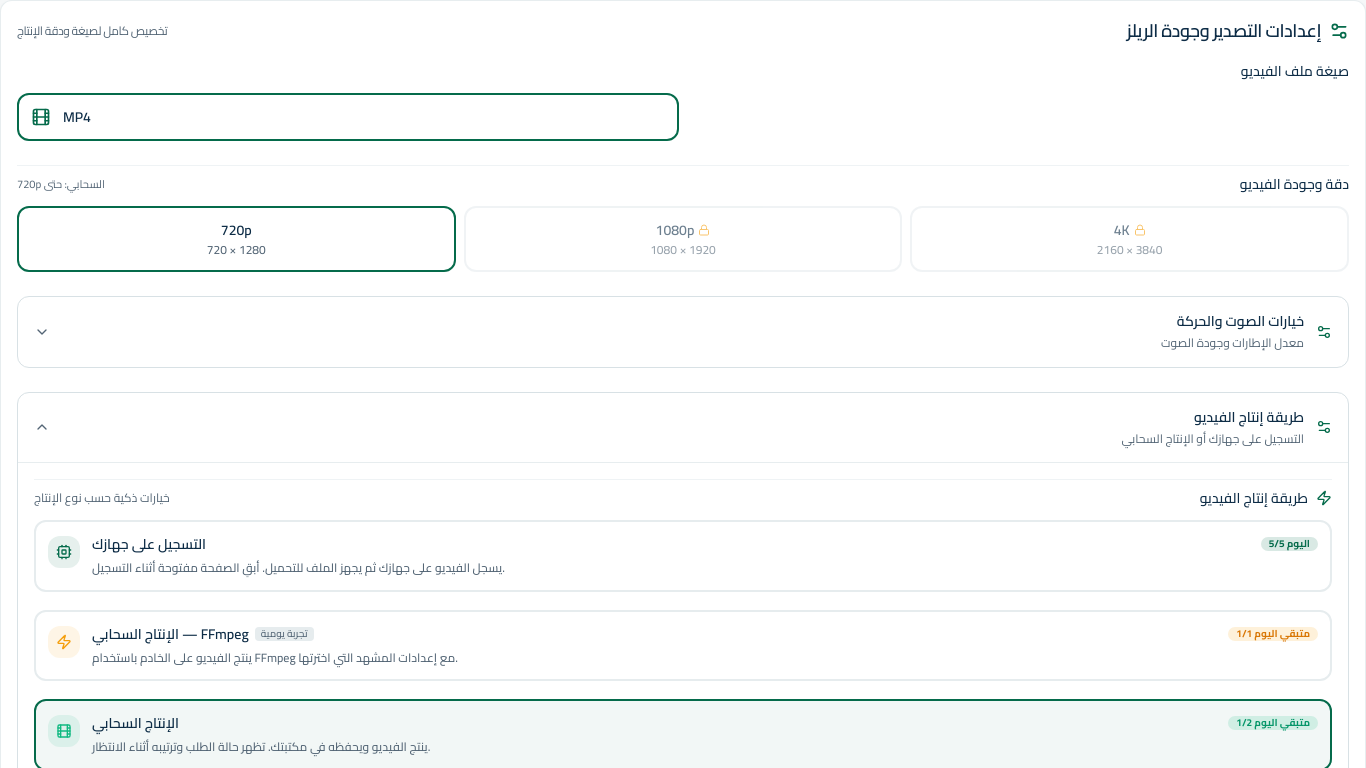
Test case: export settings progressive disclosure › retains every engine and recording strategy after closing and reopening
Earlier steps of the test are not shown.
Expected: the radio button with id "engine-skia-canvas" is checked, x1=33 y1=698 x2=49 y2=714
Click the text "طريقة إنتاج الفيديو". click: x=1249, y=416
box: x1=1194 y1=404 x2=1304 y2=430
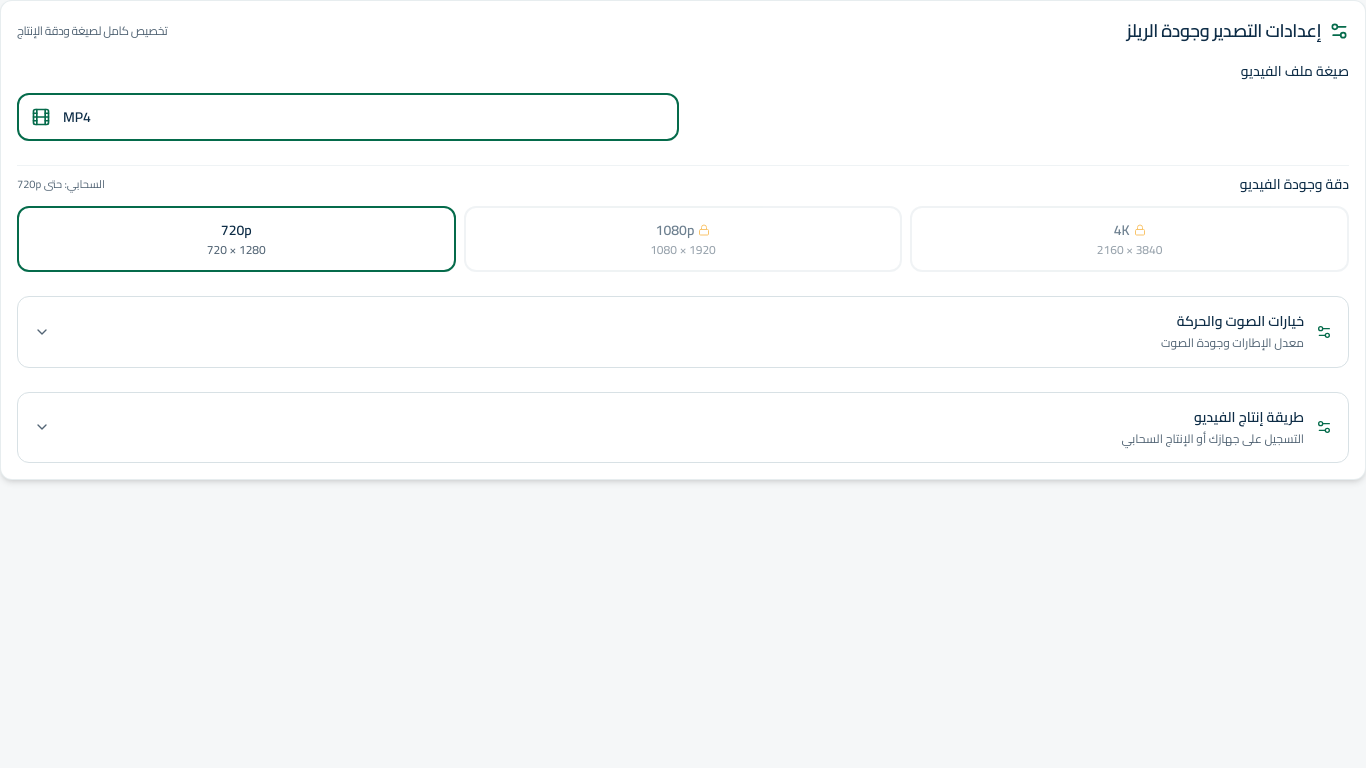
Click the text "طريقة إنتاج الفيديو". click: x=1249, y=416
box: x1=1194 y1=404 x2=1304 y2=430
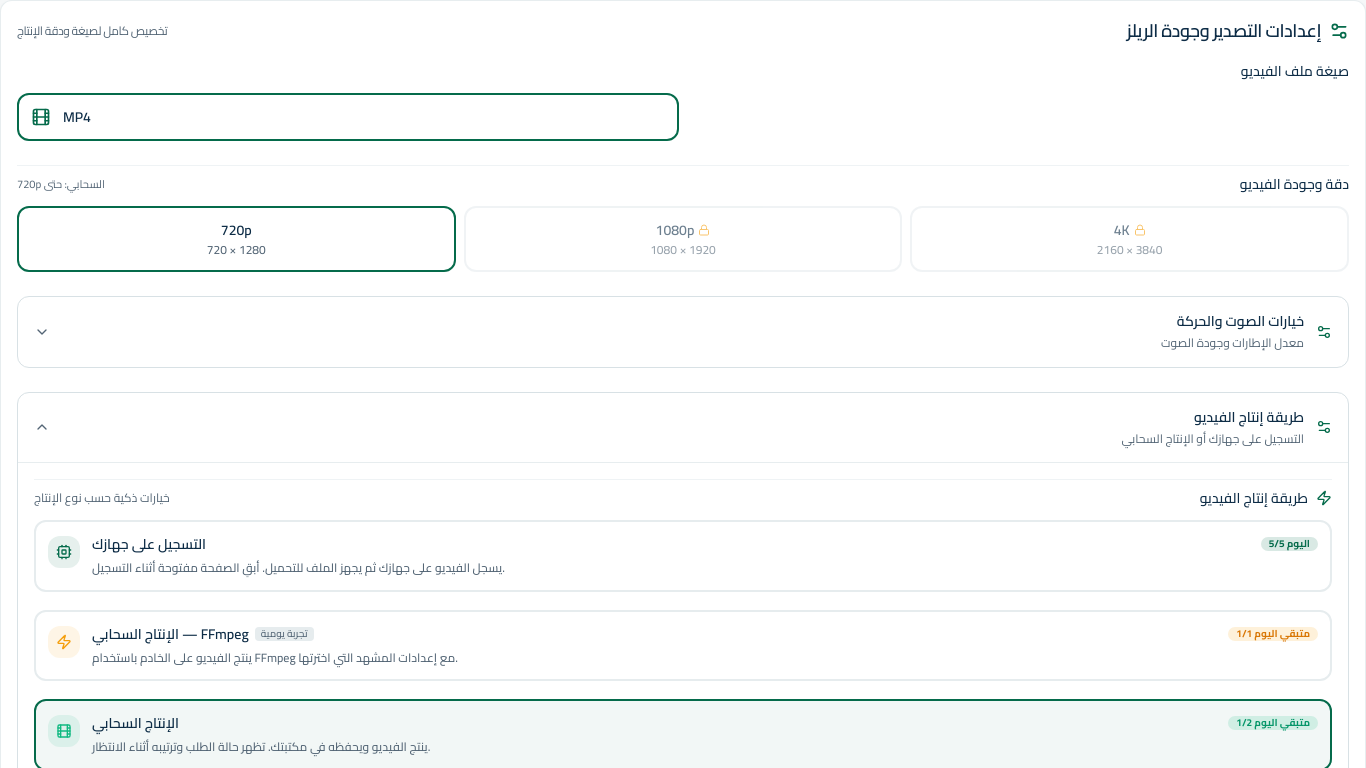
Expected: the radio button with id "engine-skia-canvas" is checked, x1=33 y1=698 x2=49 y2=714
Click the radio button with id "engine-browser". click: x=41, y=527
box: x1=33 y1=519 x2=49 y2=535
(page scrolled)
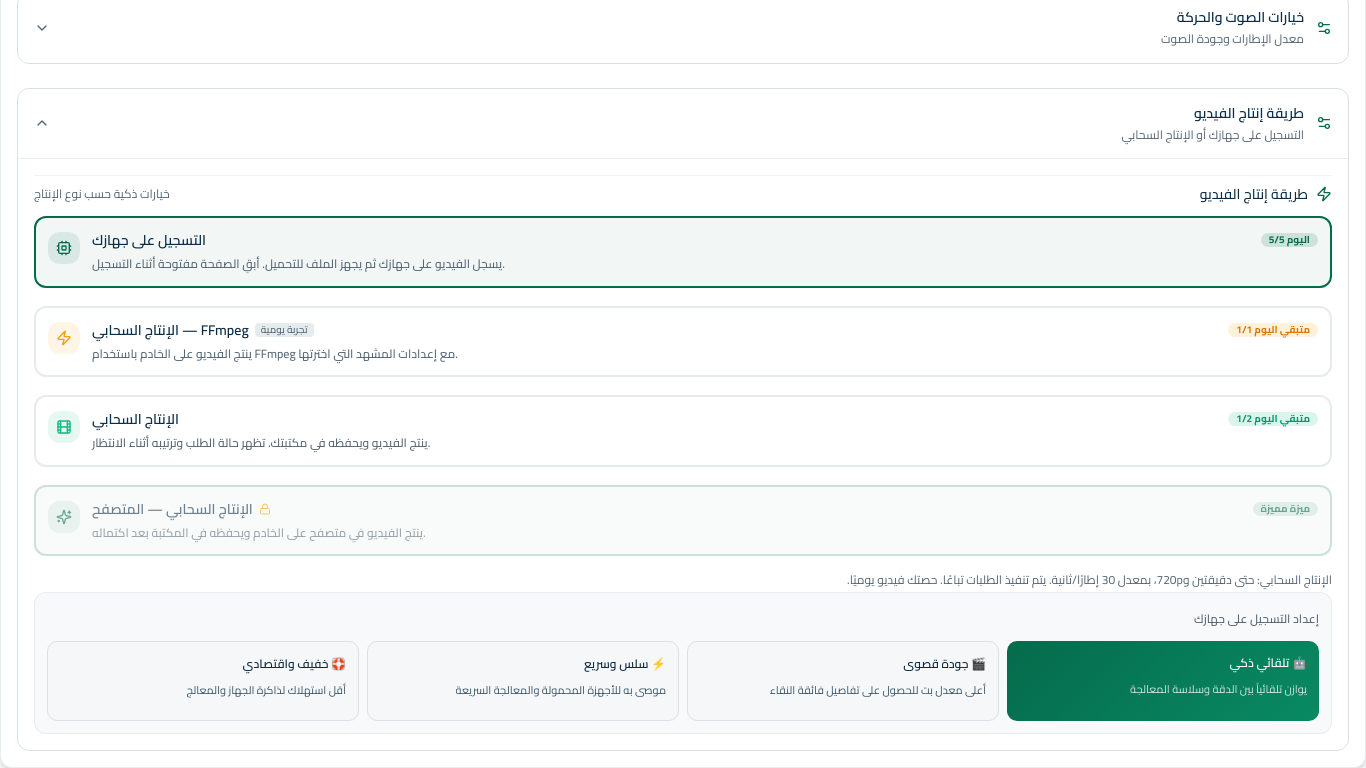
Click the button "⚡ سلس وسريع موصى به للأجهزة المحمولة والمعالجة السريعة". click: x=523, y=681
box: x1=367 y1=641 x2=679 y2=721
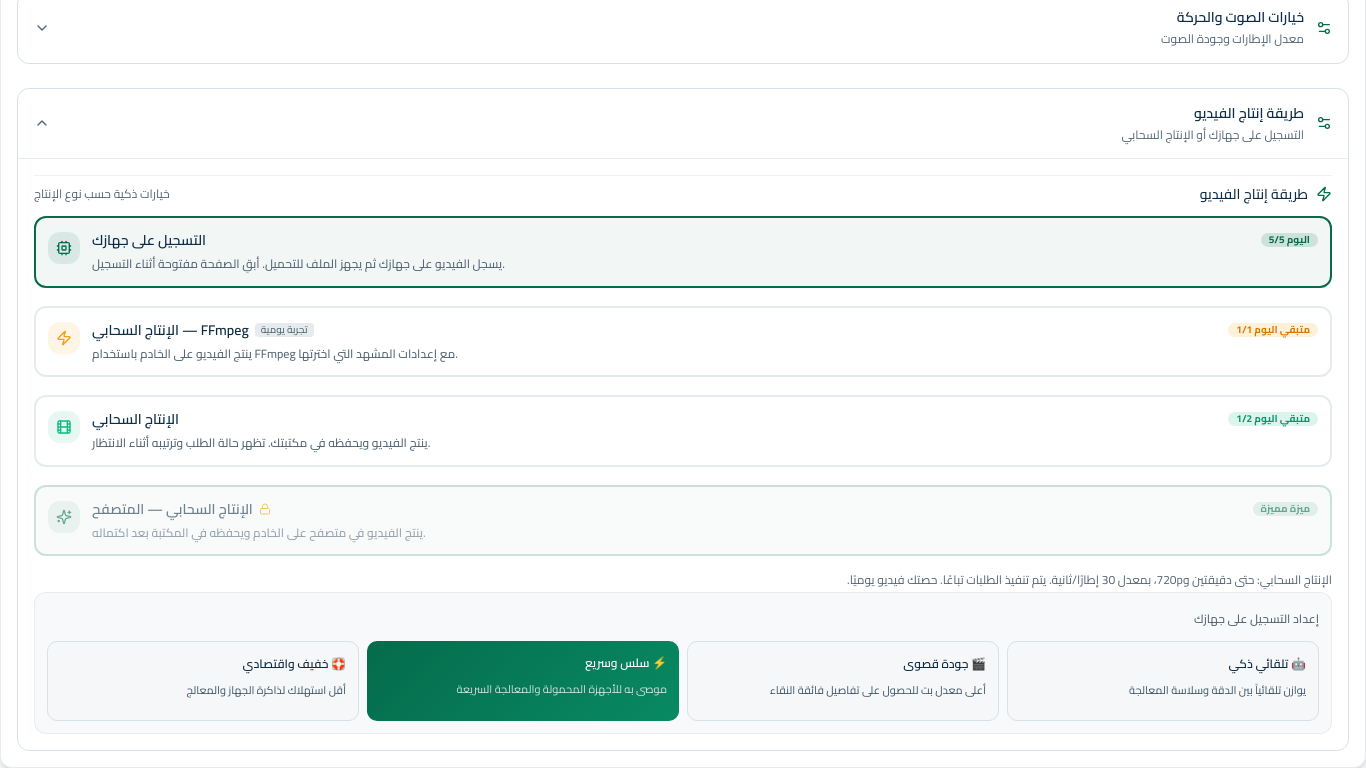
Click the text "طريقة إنتاج الفيديو". click: x=1249, y=112
box: x1=1194 y1=100 x2=1304 y2=126
(page scrolled)
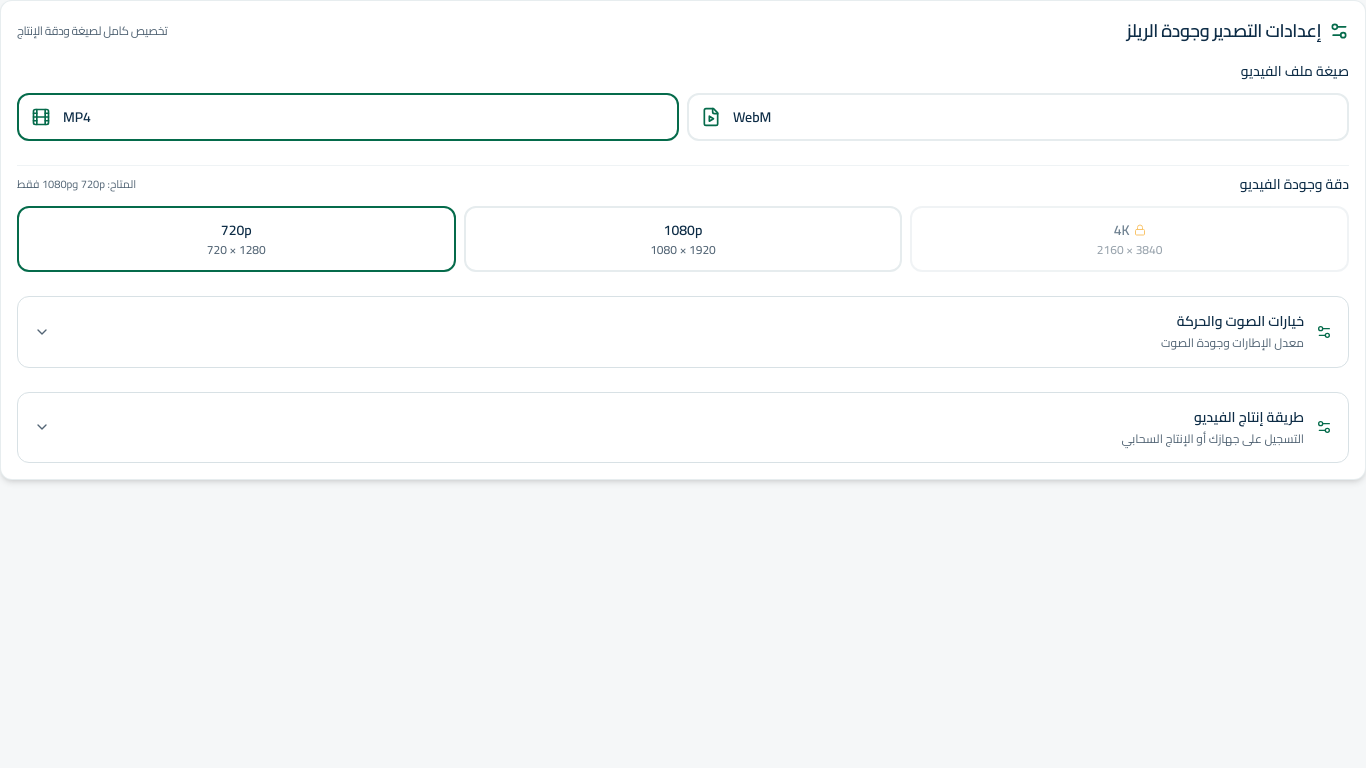
Click the text "طريقة إنتاج الفيديو". click: x=1249, y=416
box: x1=1194 y1=404 x2=1304 y2=430
(page scrolled)
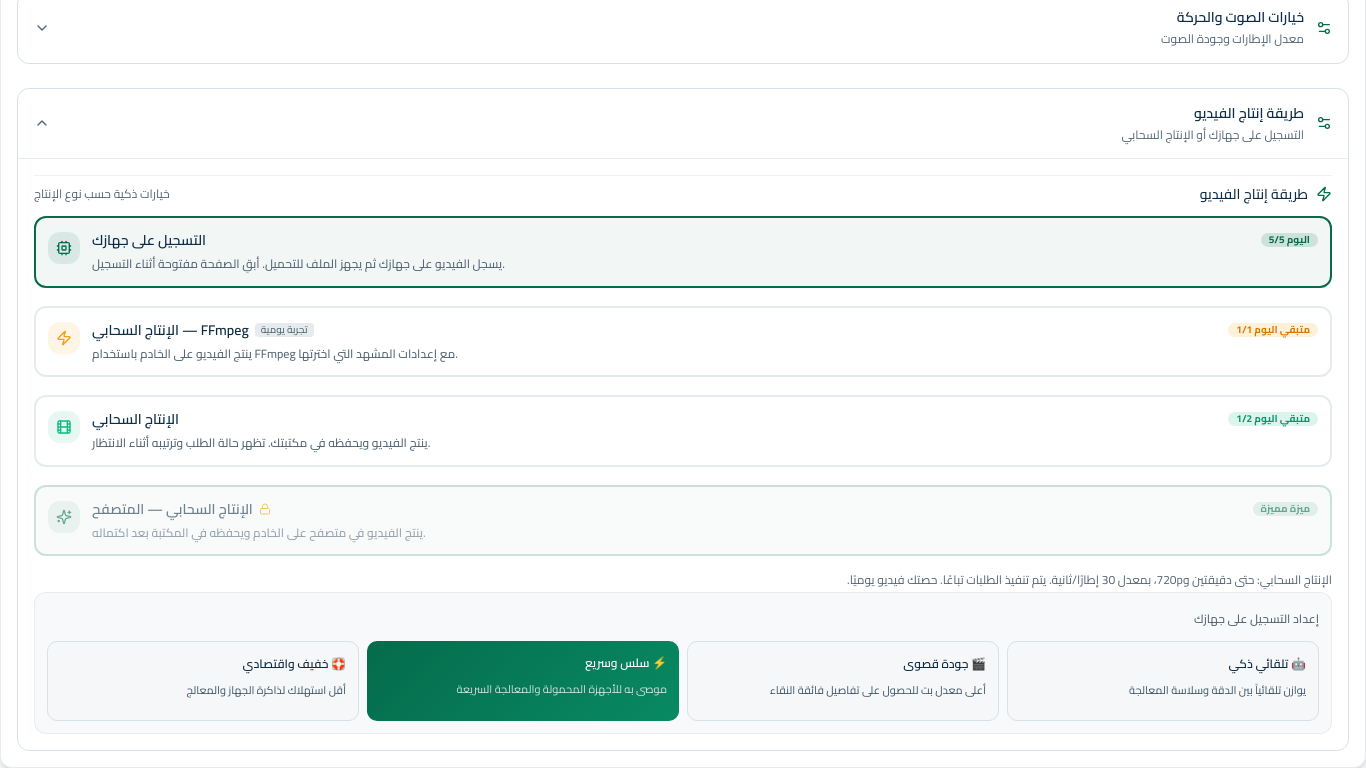
Expected: the button "⚡ سلس وسريع موصى به للأجهزة المحمولة والمعالجة السريعة" has class "gradient-primary", x1=367 y1=641 x2=679 y2=721
